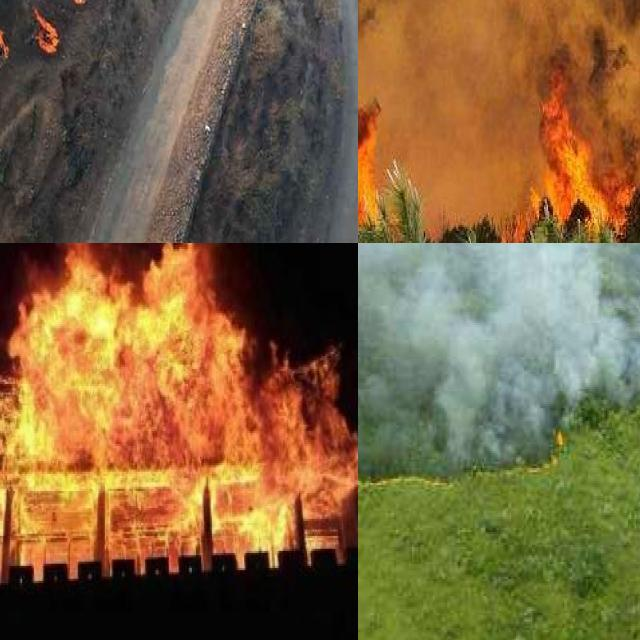fire: (0, 243, 358, 559), (507, 64, 640, 243), (29, 9, 60, 53), (0, 24, 8, 69), (65, 0, 89, 5)
smoke: (358, 243, 640, 461), (358, 0, 640, 157)
